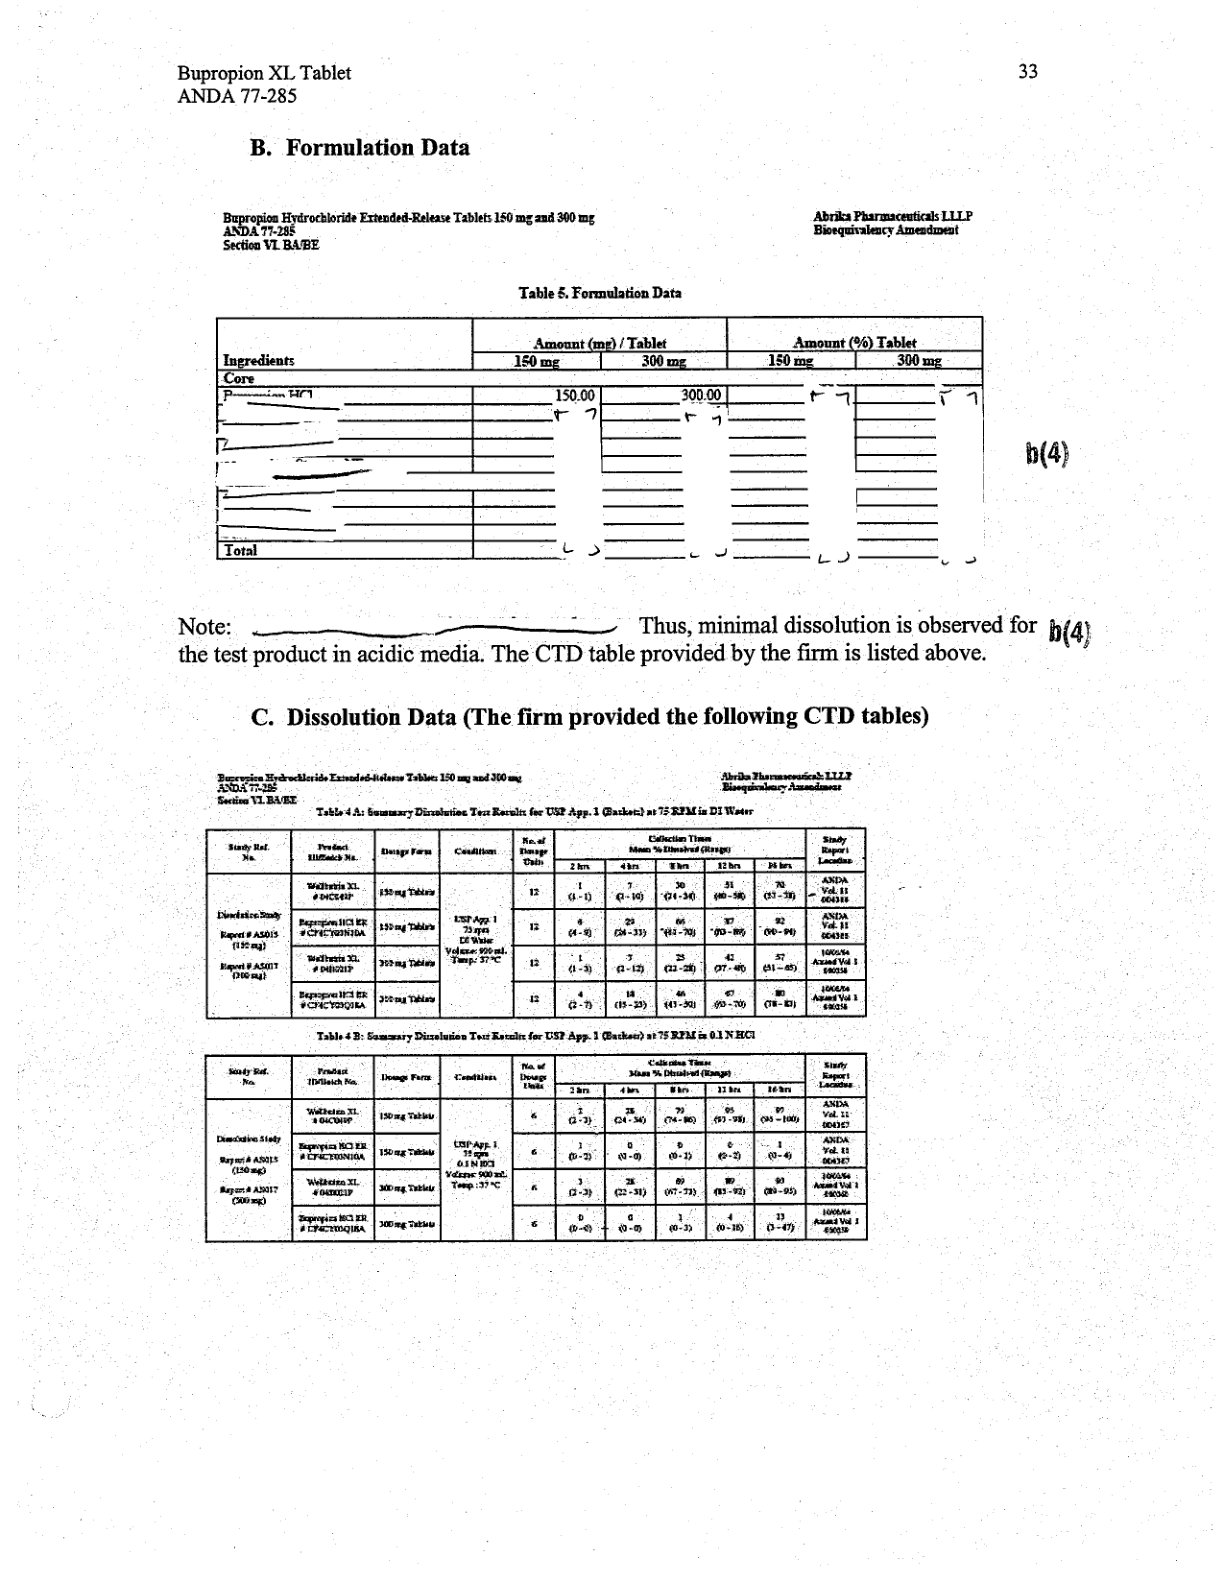merged_cells: (213, 313, 988, 564), (203, 826, 868, 1020), (203, 1052, 870, 1243)
